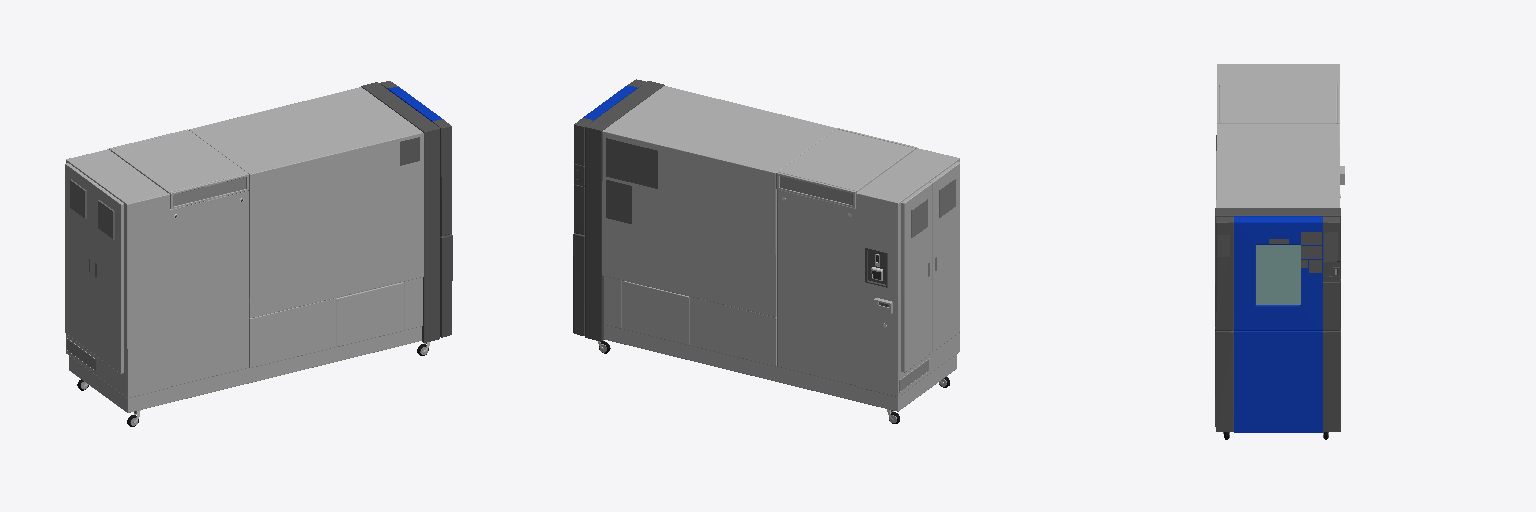
File: 01KWBX.obj
3 renders of one model, left to right at view 1: azimuth 30°, elevation 25°; view 2: azimuth 150°, elevation 25°; view 3: azimuth 270°, elevation 25°, orthographic.
Visible parts, largest first — view 1: Metal_02, Metal_03, PartA_02, PartA_01; view 2: Metal_02, Metal_03, Tex, PartA_02, PartA_01; view 3: Metal_02, Metal_Blue, Metal_03, Glass, Tex.
Boxes of the visible parts, x1=… form: Metal_02: x1=65, y1=87, x2=423, y2=412; Metal_03: x1=134, y1=81, x2=452, y2=413; PartA_02: x1=67, y1=177, x2=245, y2=370; PartA_01: x1=70, y1=179, x2=114, y2=276; Metal_02: x1=602, y1=86, x2=959, y2=411; Metal_03: x1=573, y1=79, x2=892, y2=411; Tex: x1=606, y1=138, x2=888, y2=306; PartA_02: x1=780, y1=176, x2=928, y2=390; PartA_01: x1=911, y1=178, x2=955, y2=276; Metal_02: x1=1216, y1=64, x2=1344, y2=207; Metal_Blue: x1=1234, y1=216, x2=1322, y2=432; Metal_03: x1=1215, y1=208, x2=1340, y2=431; Glass: x1=1256, y1=245, x2=1336, y2=304; Tex: x1=1218, y1=232, x2=1337, y2=272.
Bounding box in the file's own units: 301 × 199 × 102.